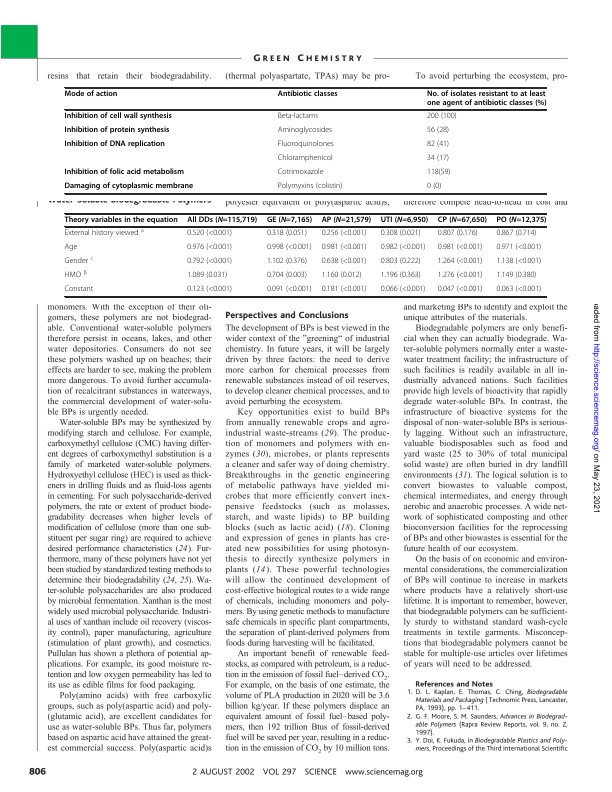borderless: (63, 86, 546, 193), (63, 212, 546, 296)
cell: (426, 90, 547, 108), (64, 182, 194, 192), (64, 168, 185, 178), (64, 112, 173, 122), (64, 126, 170, 136), (64, 216, 179, 225), (64, 140, 166, 150), (63, 227, 145, 239), (277, 182, 343, 192), (186, 216, 258, 225), (277, 140, 335, 150), (277, 126, 333, 136), (277, 154, 333, 164), (277, 90, 339, 99), (64, 90, 118, 99), (277, 168, 324, 178), (186, 229, 233, 239), (186, 243, 233, 253), (495, 243, 542, 253), (186, 257, 233, 267), (495, 257, 542, 267), (186, 285, 233, 295), (495, 285, 542, 295), (495, 216, 547, 225), (321, 229, 367, 239), (266, 243, 312, 253), (321, 243, 367, 253), (380, 243, 426, 253), (437, 243, 483, 253), (321, 257, 367, 267), (437, 257, 483, 267), (437, 271, 483, 281), (266, 285, 312, 295), (321, 285, 367, 295), (380, 285, 426, 295), (437, 285, 483, 295), (321, 216, 372, 225), (437, 216, 488, 225), (380, 216, 429, 225), (266, 216, 313, 225), (277, 112, 319, 122), (266, 229, 308, 239), (380, 229, 422, 239), (437, 229, 479, 239), (495, 229, 537, 239), (266, 257, 308, 267), (380, 257, 422, 267), (186, 271, 228, 281), (266, 271, 308, 281), (380, 271, 422, 281), (495, 271, 537, 281), (321, 271, 362, 281), (64, 255, 94, 267), (426, 112, 457, 122), (64, 285, 94, 295), (64, 269, 88, 281), (426, 168, 451, 178), (426, 126, 450, 136), (426, 140, 450, 150), (426, 154, 450, 164), (426, 182, 442, 192), (64, 243, 78, 253)
